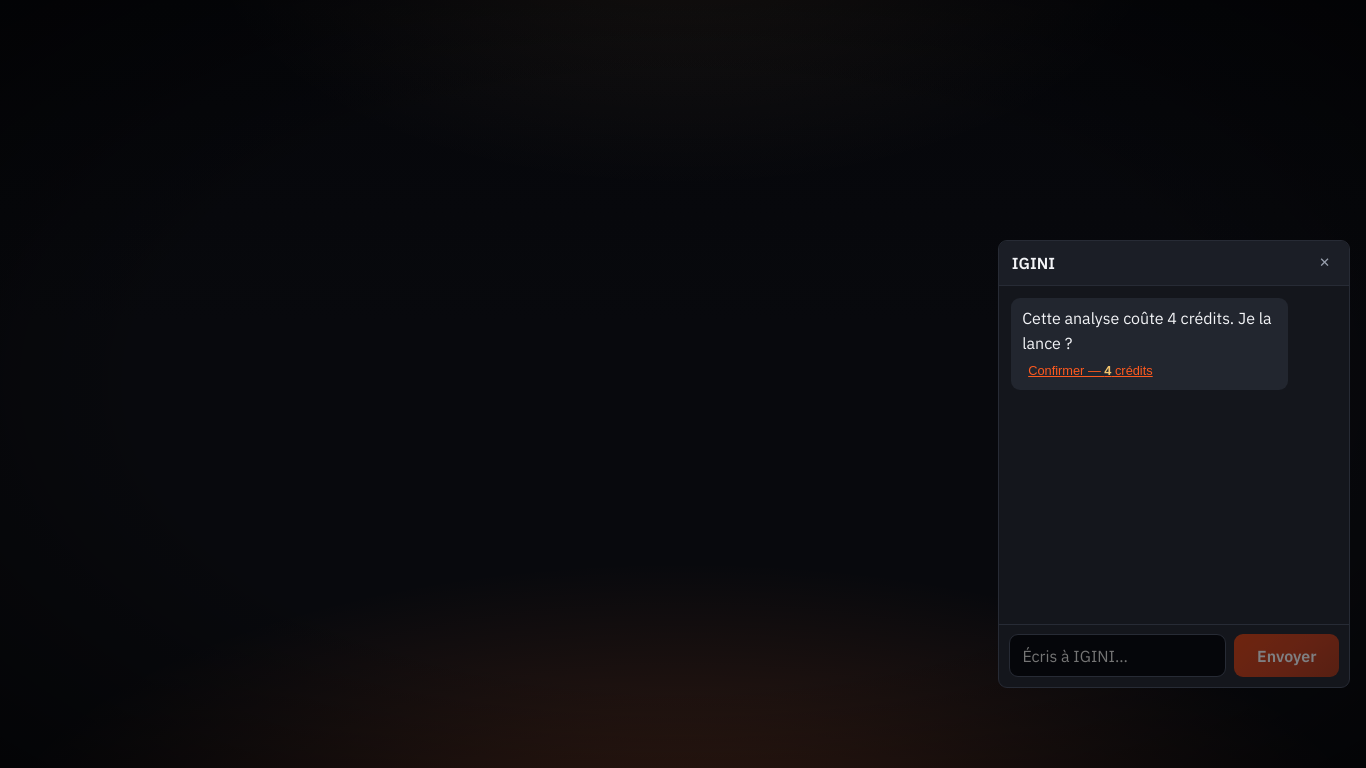
ChatIgini — confirmer le prix d’une étape › montre le prix sur un bouton, et le oui part comme message
Click the button "Confirmer — 4 crédits" at (1090, 370), box x1=1022 y1=362 x2=1159 y2=379
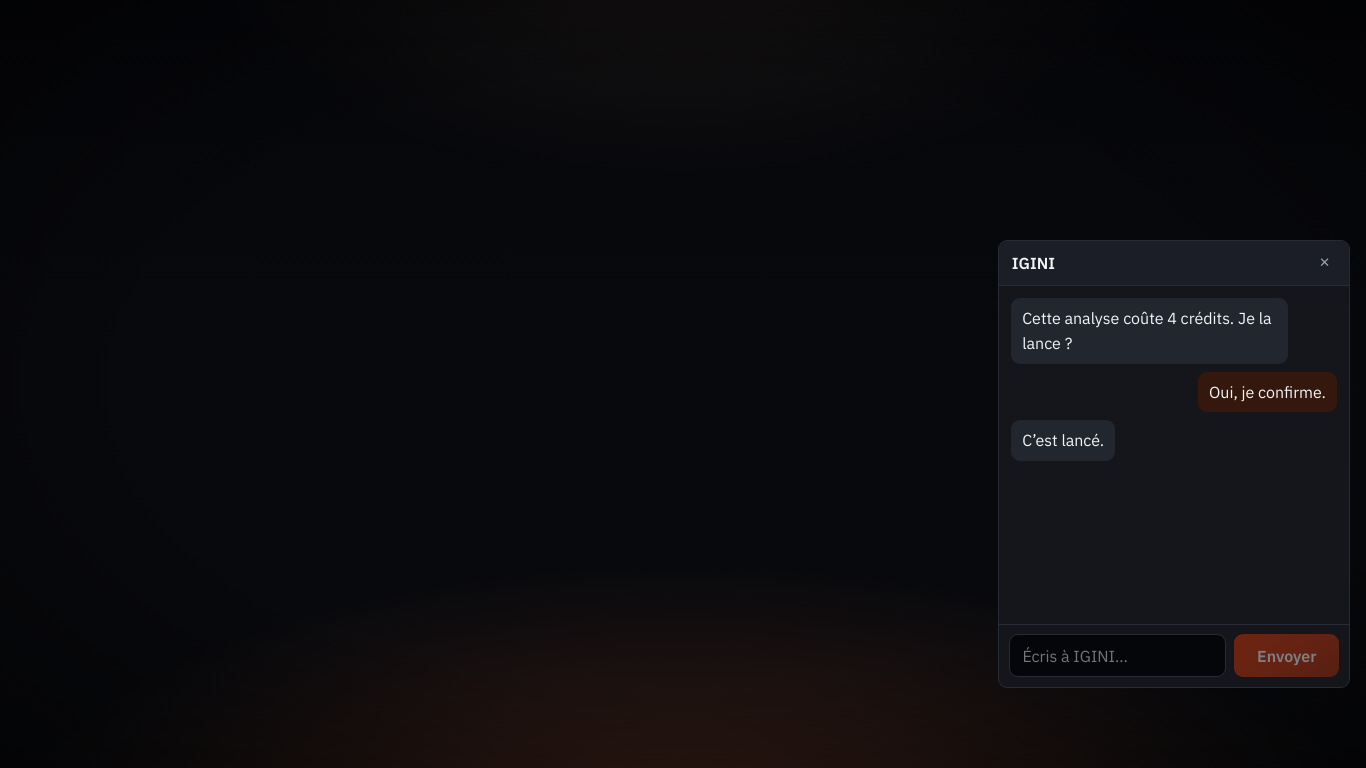
expect the text "C’est lancé." is shown: met, box x1=1022 y1=428 x2=1104 y2=453
